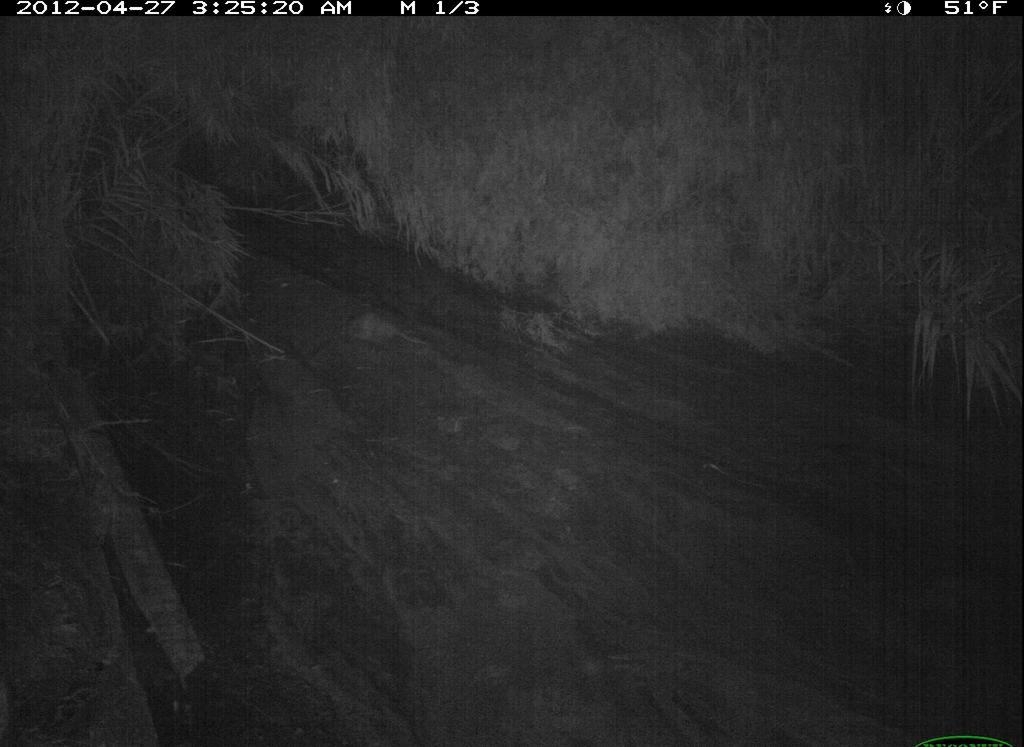opossum: (669, 605, 894, 720)
